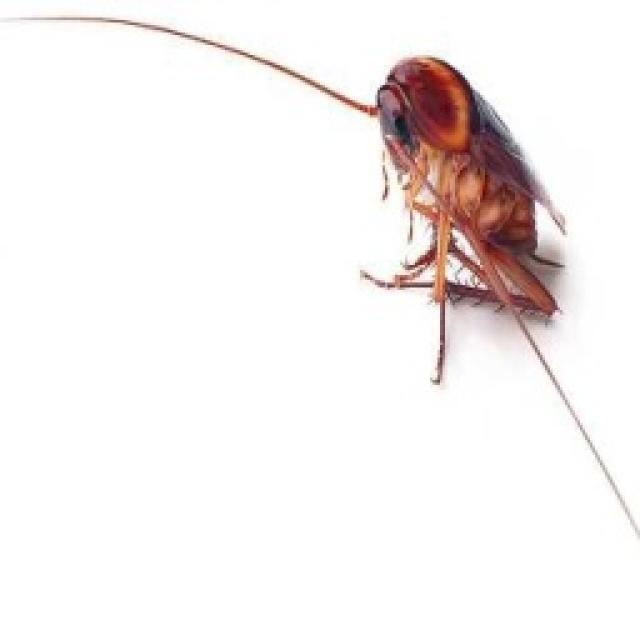cockroach: (335, 41, 560, 376)
